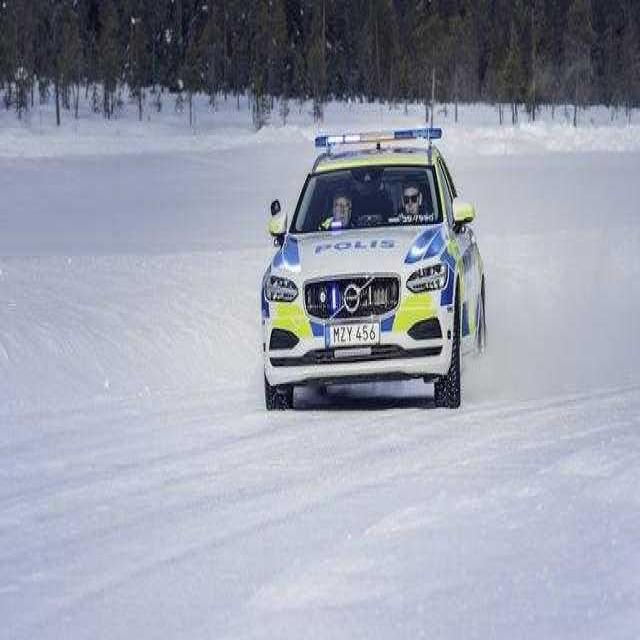firetruck: (242, 112, 505, 422)
